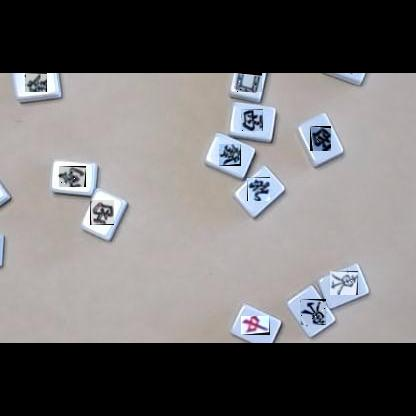1z: (300, 299, 326, 325), (330, 271, 358, 295)
2z: (59, 166, 86, 187)
3z: (90, 200, 114, 225), (310, 126, 331, 151), (241, 109, 263, 131)
4z: (247, 177, 270, 201)
5z: (235, 73, 262, 92)
6z: (219, 144, 241, 166), (25, 73, 47, 92)
7z: (241, 316, 270, 335)
